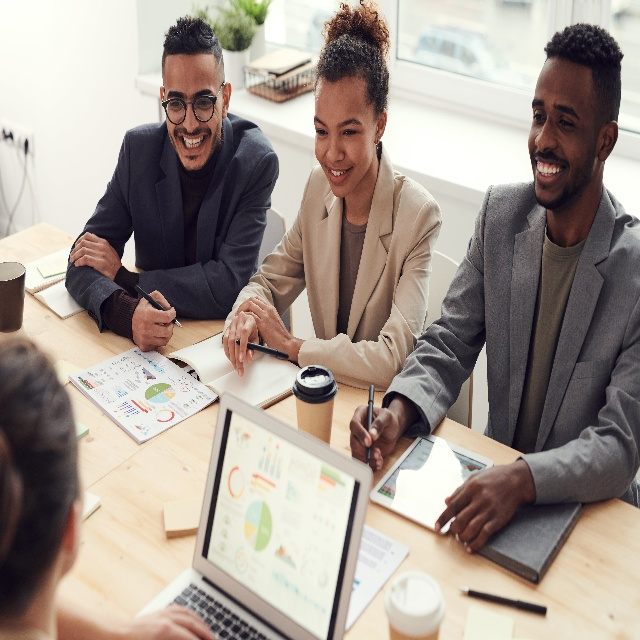Gafas: (161, 82, 224, 126)
Sin_guantes: (434, 461, 524, 555), (348, 402, 401, 473), (235, 295, 291, 361), (132, 289, 176, 352), (70, 231, 122, 281), (223, 310, 260, 378)
